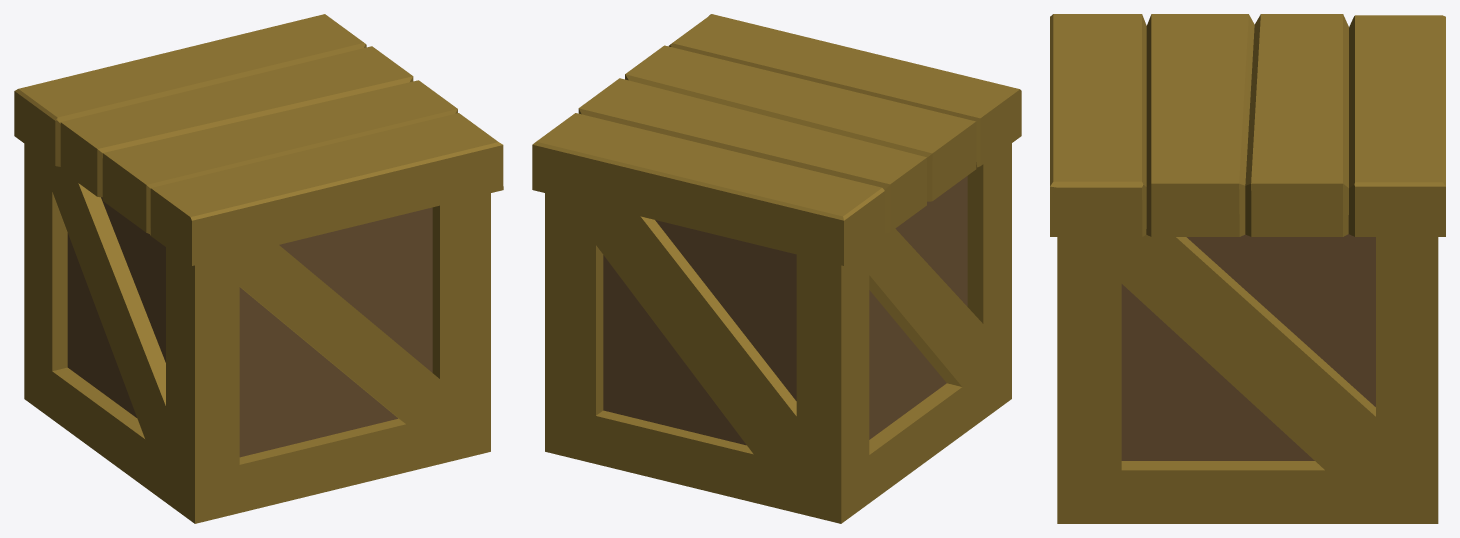
Rendered from crate_01.glb.
The picture shows the model from 3 angles, left to right: view 1: azimuth 30°, elevation 25°; view 2: azimuth 150°, elevation 25°; view 3: azimuth 270°, elevation 25°; orthographic projection. The views are drawn at different scales.
Visible parts, largest first — view 1: crate_01; view 2: crate_01; view 3: crate_01.
Part boxes in pixels (x1,y1,x2,y2): crate_01: (14,14,503,523); crate_01: (532,14,1021,523); crate_01: (1050,14,1445,523).
Bounding box in the file's own units: 0.6318 × 0.6 × 0.6233.
